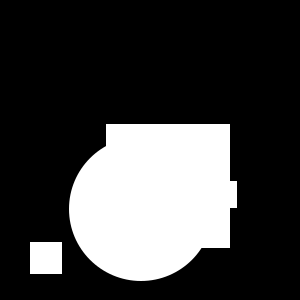circle: (106, 124, 230, 248), (30, 242, 62, 274), (210, 181, 237, 208)
rectangle: (69, 137, 213, 281)
